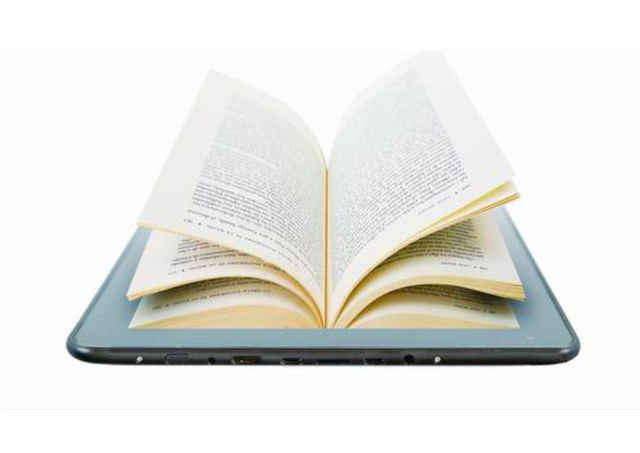book: (124, 45, 522, 331)
